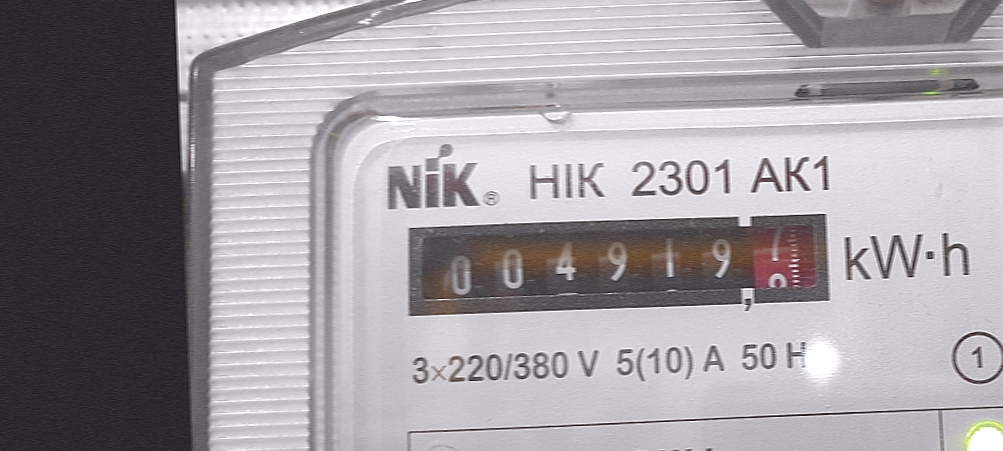0: (497, 244, 525, 290), (446, 250, 472, 295)
1: (660, 233, 676, 279)
4: (550, 237, 576, 281)
7: (760, 222, 785, 262)
9: (707, 233, 732, 281), (604, 238, 628, 282)
screen: (393, 197, 846, 333)
